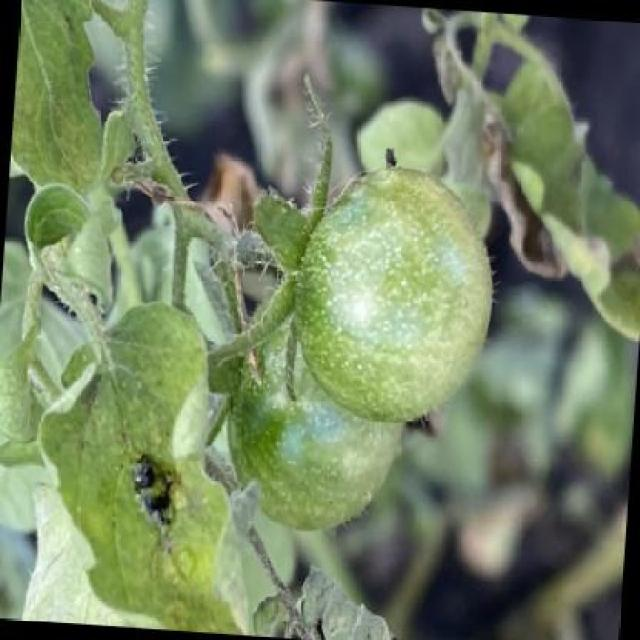unripe tomato: (286, 154, 506, 432), (217, 277, 414, 538)
